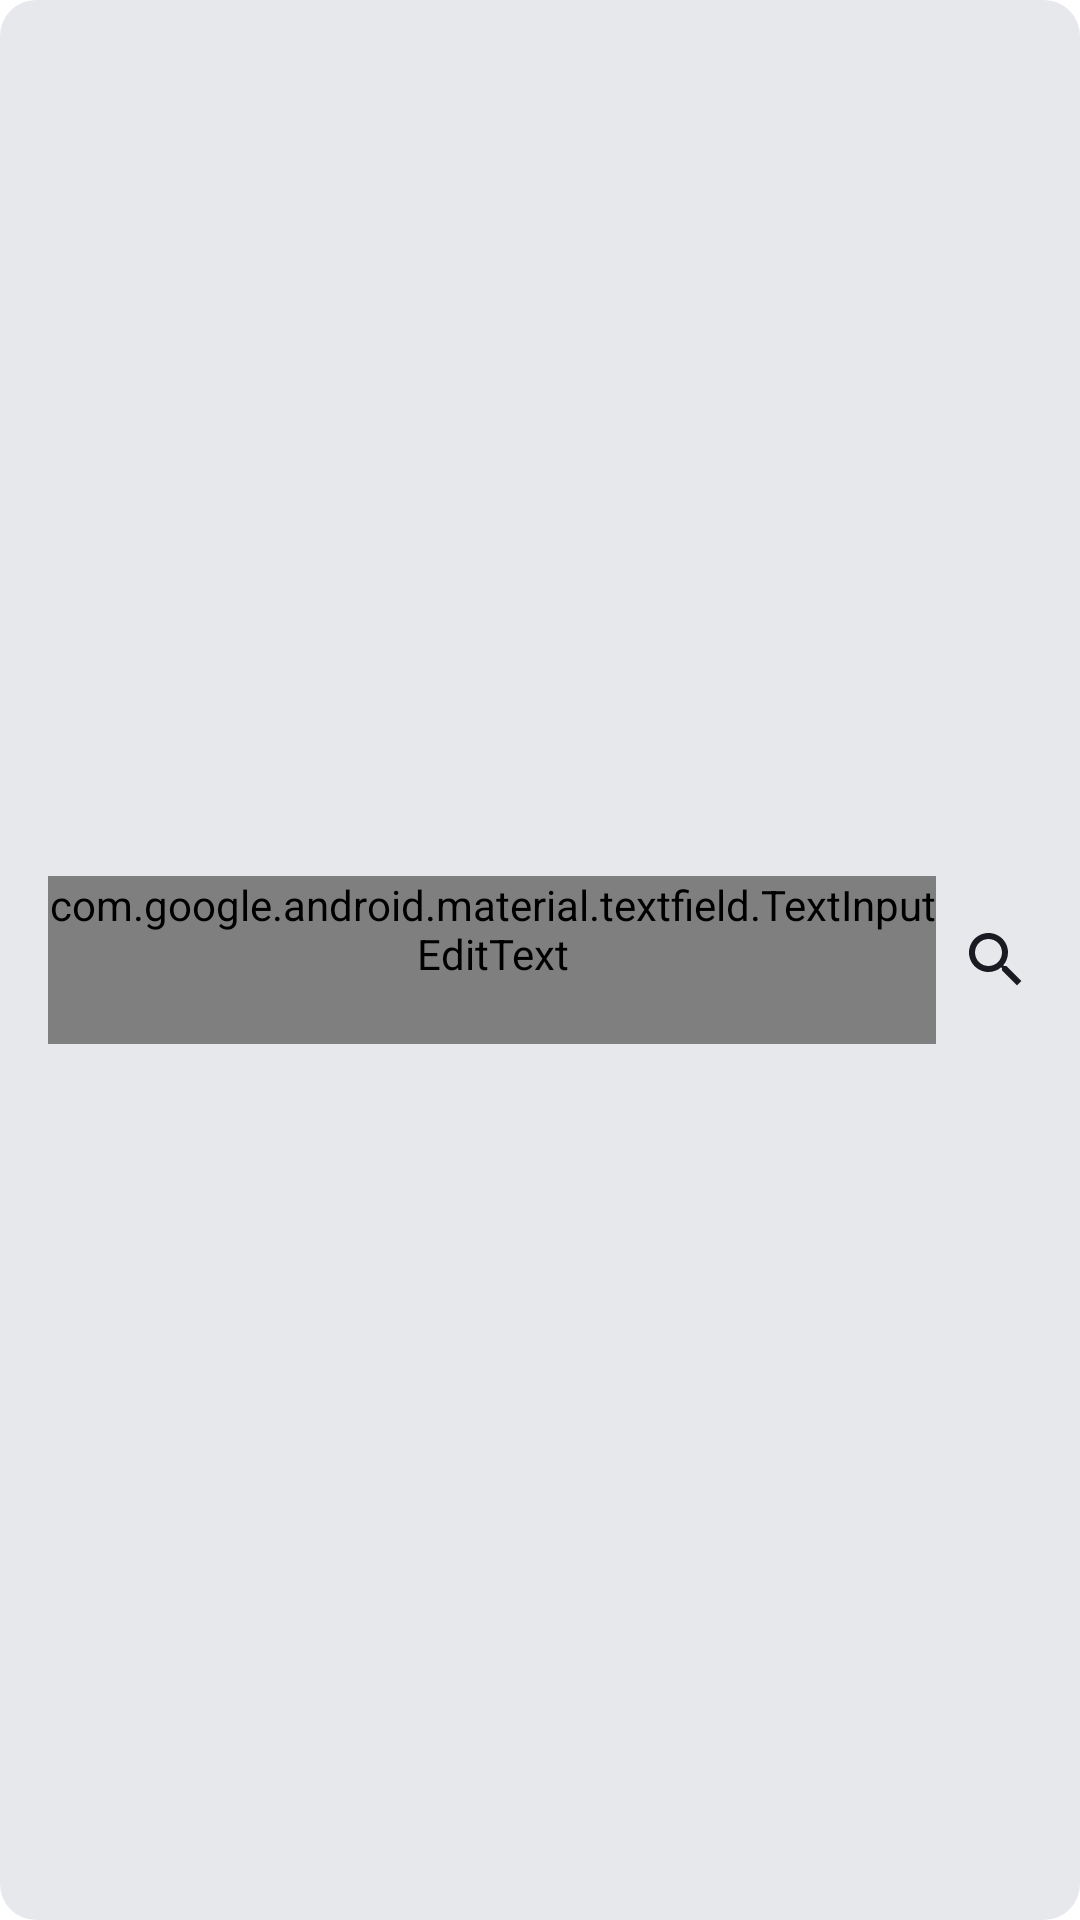

Icons on this 1080w x 1920h Android screen, each with the point to tap as point (x, y):
иконка поиска: point (995, 959)
